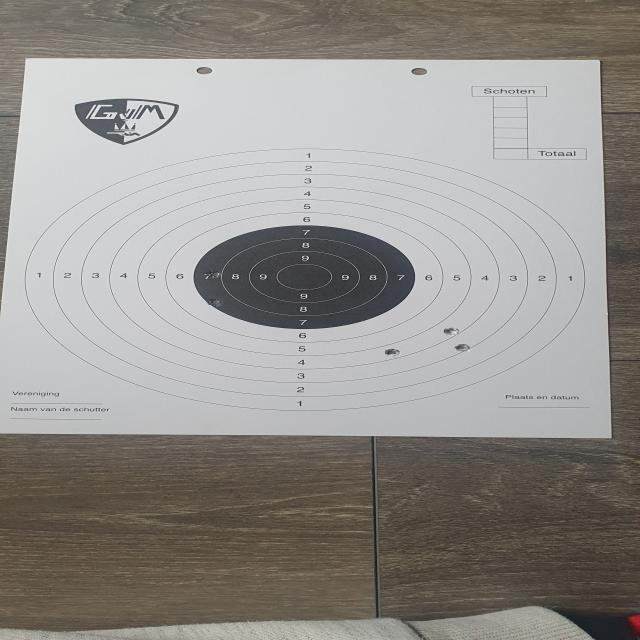4: (454, 343, 471, 352)
5: (384, 348, 400, 357), (444, 328, 459, 336)
8: (202, 268, 224, 280), (204, 298, 224, 308)
Black Contour: (193, 224, 416, 330)
Target: (22, 148, 588, 412)
